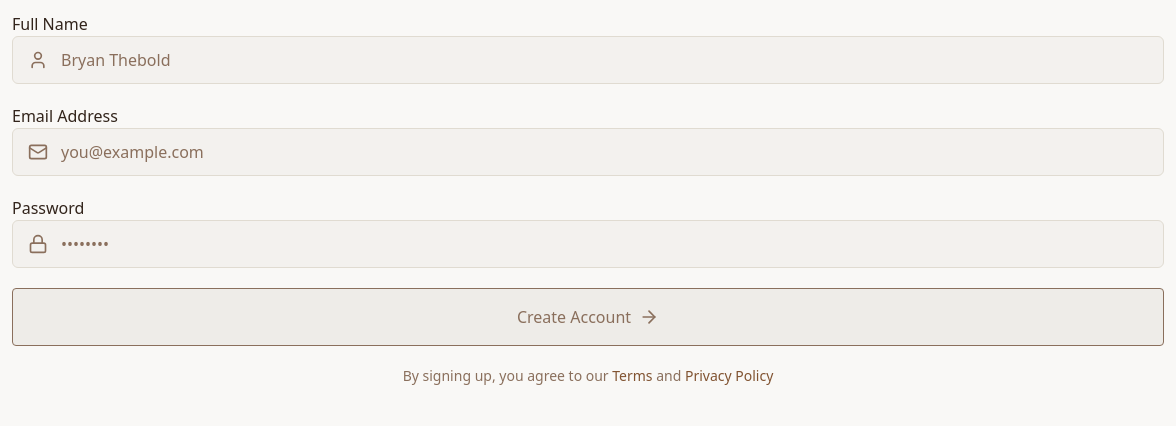
Test: SignUpForm › shows error for password shorter than 8 characters
Type "Daniel" into the field labelled "Full Name" at {"x": 588, "y": 60}, box [12,36,1164,84]
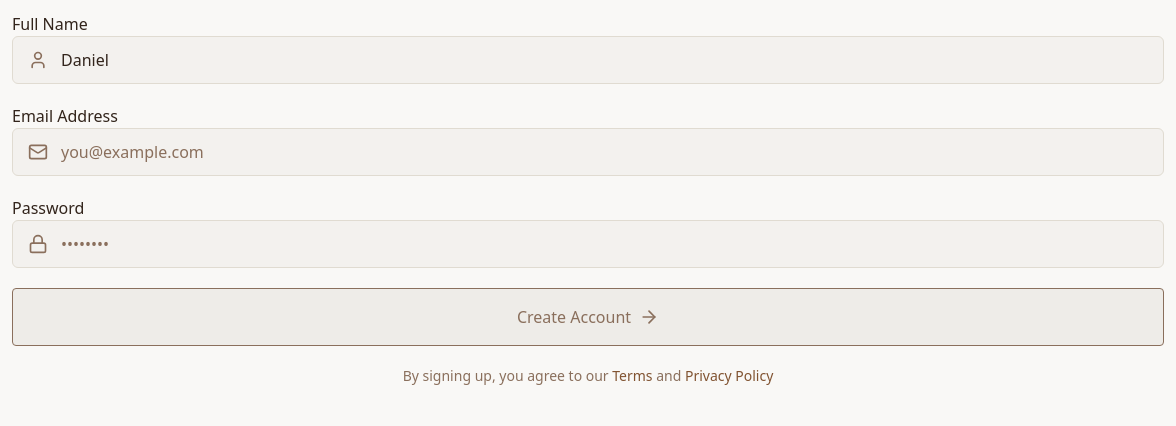
Type "dan@test.com" into the field labelled "Email Address" at {"x": 588, "y": 152}, box [12,128,1164,176]
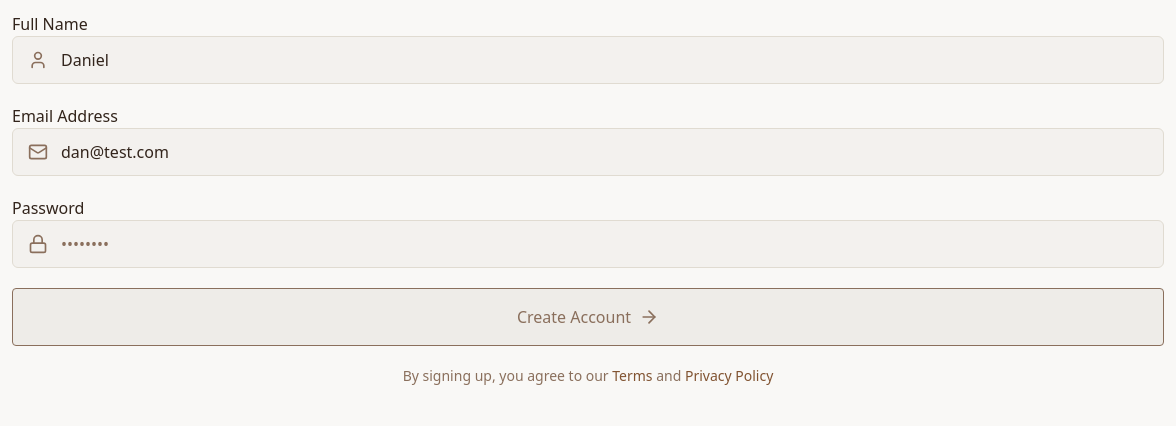
Type "short" into the password field labelled "Password" at {"x": 588, "y": 244}, box [12,220,1164,268]
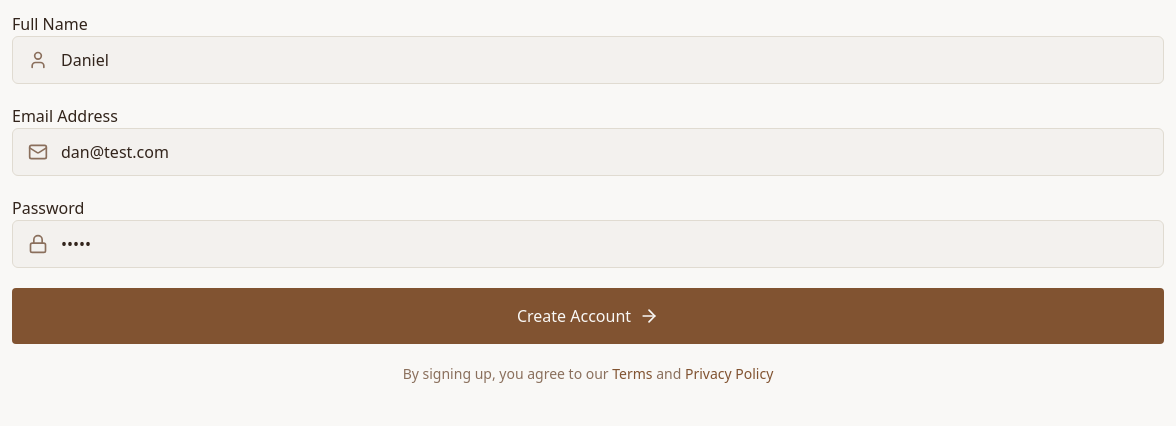
Submit the form labelled "Full Name"
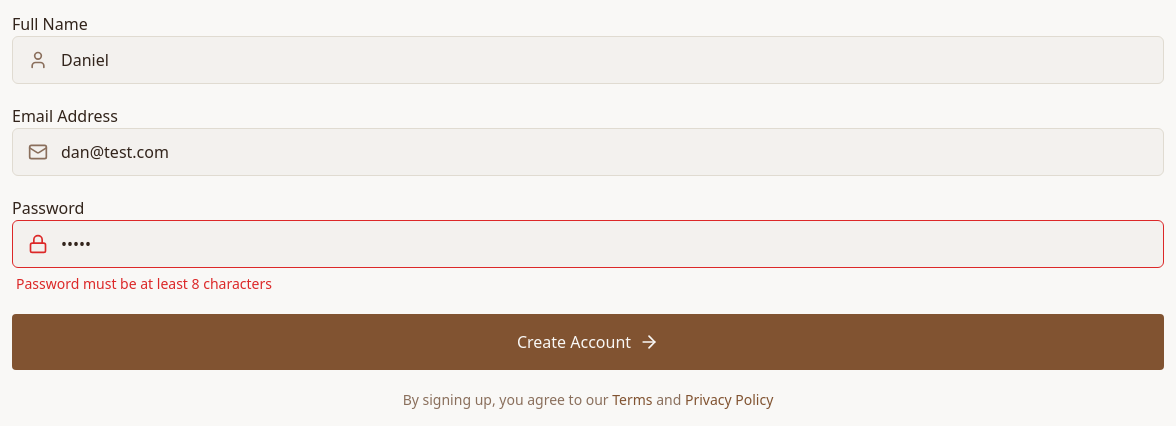
Now the text "Password must be at least 8 characters" is shown, box [16,274,272,293]
